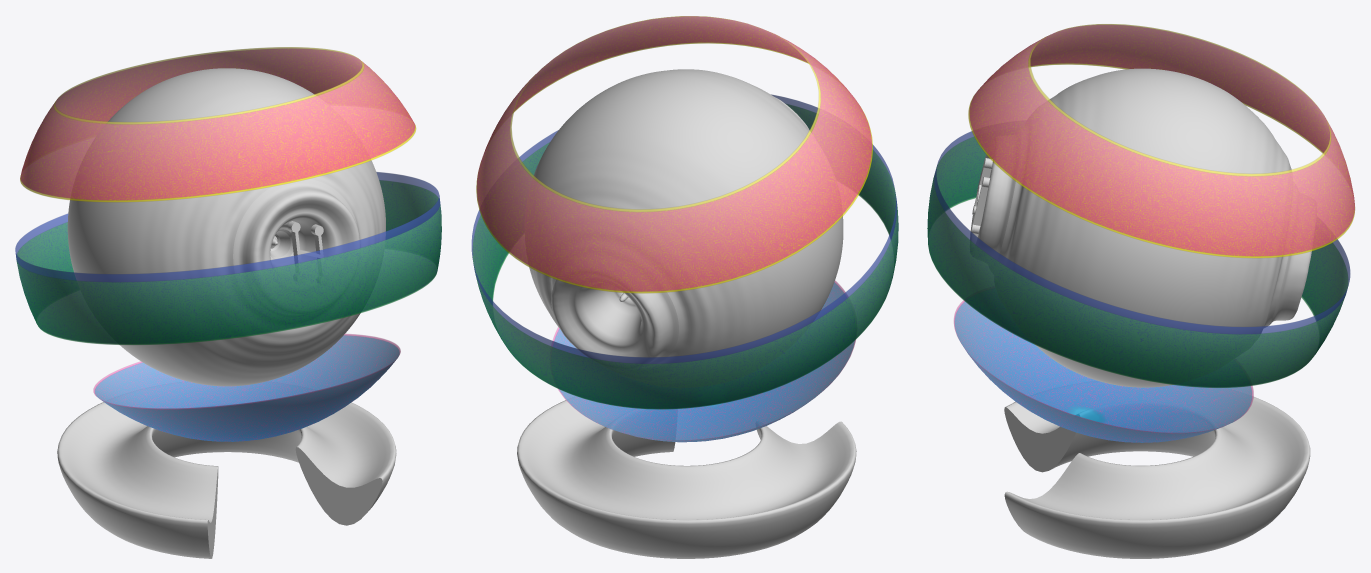
The model's file is hifi_opacityV_albedoM.fbx.
3 renders of one model, left to right at view 1: azimuth 30°, elevation 25°; view 2: azimuth 150°, elevation 25°; view 3: azimuth 270°, elevation 25°, orthographic.
Visible parts, largest first — view 1: Icosphere.001; view 2: Icosphere.001; view 3: Icosphere.001.
Part boxes in pixels (<box>): Icosphere.001: <box>15,47,441,558</box>; Icosphere.001: <box>471,16,898,558</box>; Icosphere.001: <box>927,24,1354,558</box>.
Size of the model in its own units: 83.99 by 102 by 83.99.
Materials: 2 (1 with a texture image).
